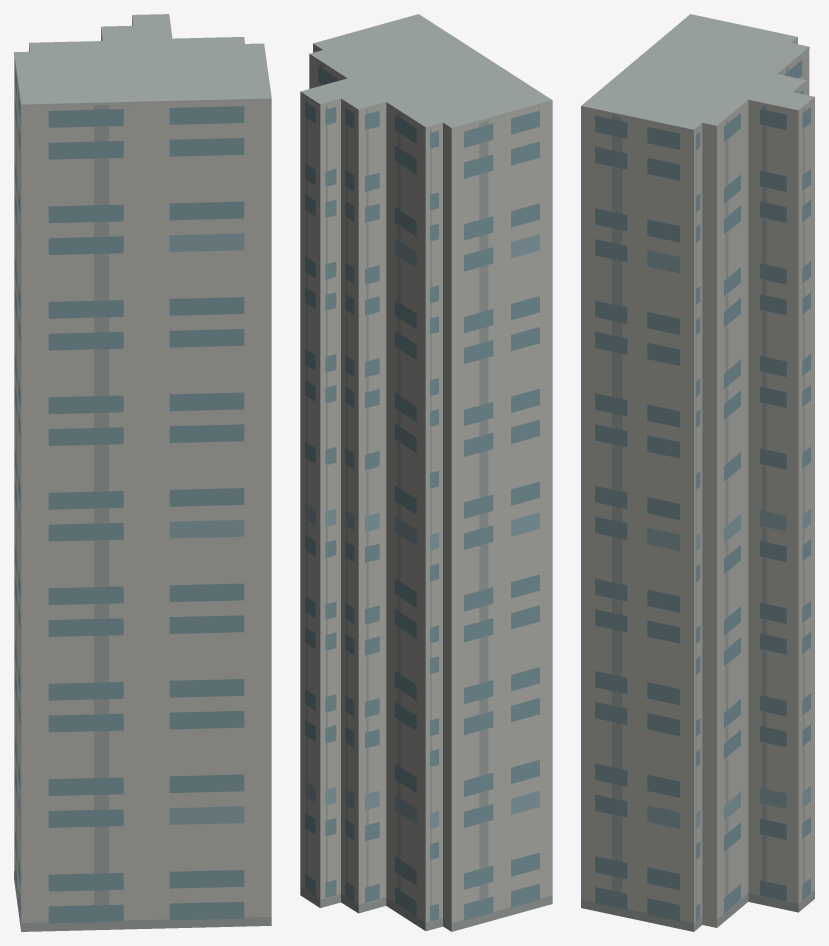
File: residential-850c7e69-4a3b-454a-b272-c6db78eda905.glb
3 views of the same model, side by side, from view 1: azimuth 30°, elevation 25°; view 2: azimuth 150°, elevation 25°; view 3: azimuth 270°, elevation 25° (orthographic). The views are drawn at different scales.
Visible parts, largest first — view 1: residential-850c7e69-4a3b-454a-b272-c6db78eda905.tmp; view 2: residential-850c7e69-4a3b-454a-b272-c6db78eda905.tmp; view 3: residential-850c7e69-4a3b-454a-b272-c6db78eda905.tmp.
Boxes of the visible parts, x1,y1,x2,y2 form: residential-850c7e69-4a3b-454a-b272-c6db78eda905.tmp: (14, 14, 271, 931); residential-850c7e69-4a3b-454a-b272-c6db78eda905.tmp: (300, 14, 552, 931); residential-850c7e69-4a3b-454a-b272-c6db78eda905.tmp: (581, 14, 814, 931).
Size of the model in its own units: 22.61 by 73 by 19.29.
